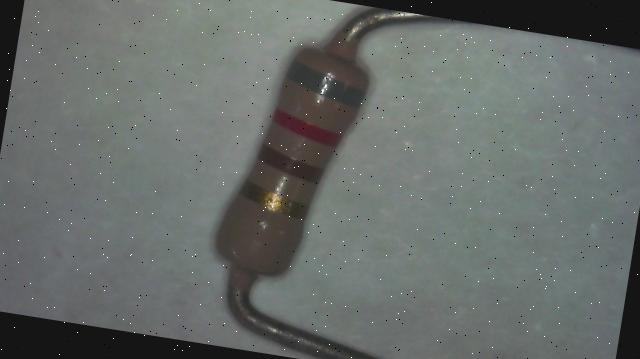brown: (256, 145, 326, 184)
gold: (238, 180, 310, 218)
grey: (284, 58, 369, 108)
red: (271, 108, 344, 148)
resistor: (174, 6, 409, 305)
